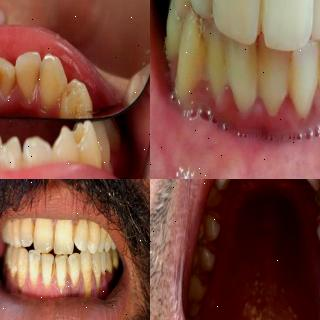calculus: (172, 24, 206, 110), (202, 32, 230, 104), (245, 50, 268, 119), (279, 53, 301, 115), (245, 0, 270, 54), (311, 50, 320, 117)
maligned: (212, 0, 264, 43), (179, 0, 223, 25), (0, 52, 19, 106), (195, 179, 224, 209)
stains: (183, 275, 210, 313), (194, 239, 218, 270), (201, 210, 221, 243), (46, 224, 58, 254), (87, 221, 99, 247), (70, 220, 82, 245), (182, 308, 206, 320), (49, 258, 60, 284), (29, 215, 39, 242), (62, 258, 72, 284), (212, 179, 236, 189), (35, 257, 45, 279), (314, 207, 320, 242)
